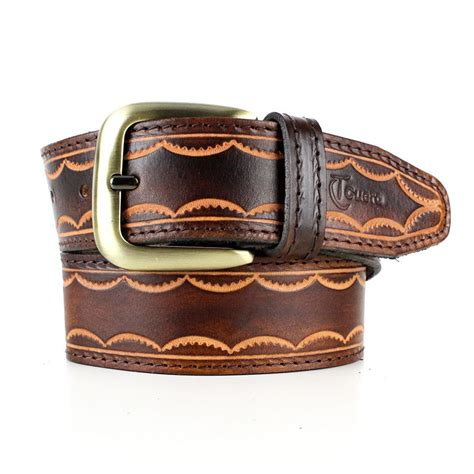cuero: (39, 116, 452, 377)
